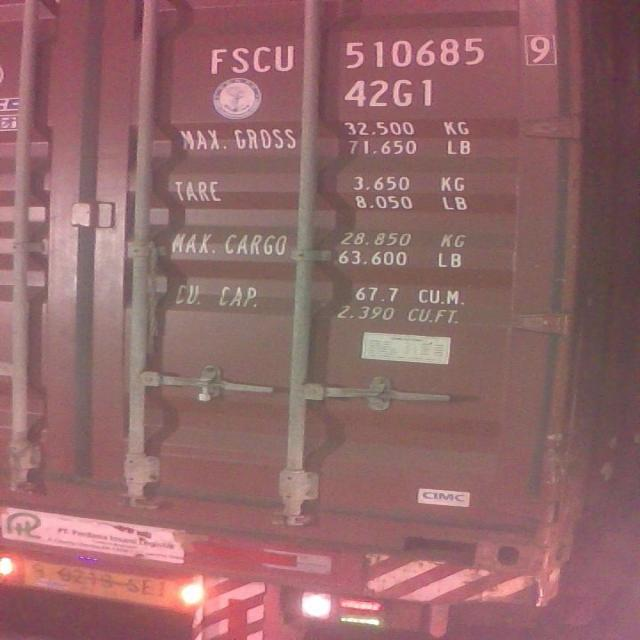seal: (185, 375, 225, 404)
